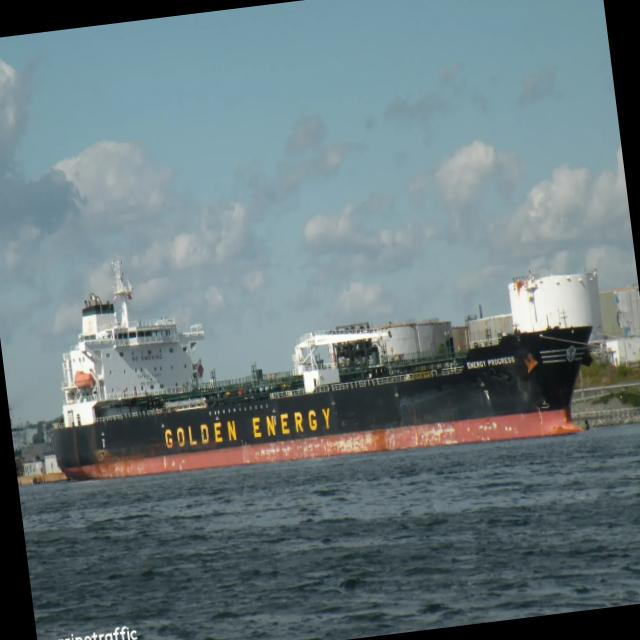Tanker: (52, 262, 591, 479)
